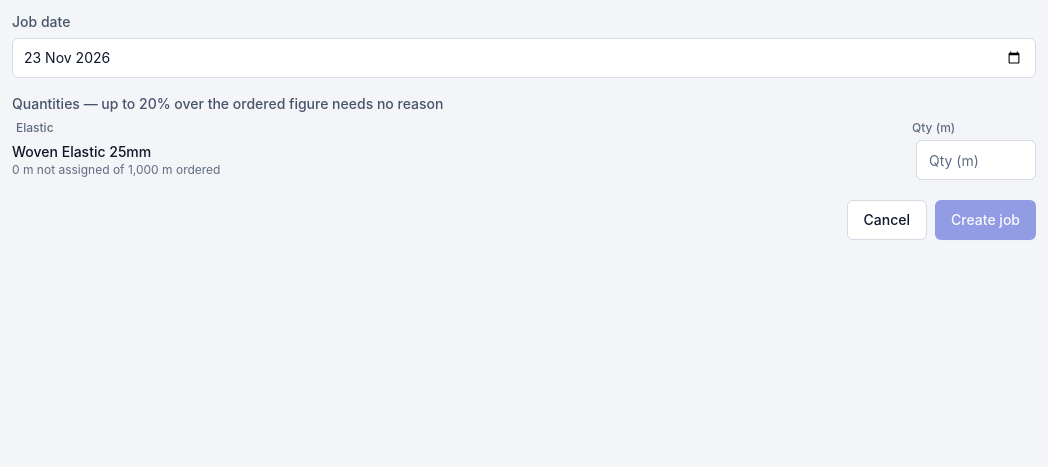
Test: a line other jobs have already planned › counts what earlier jobs already planned
The width and height of the screenshot is (1048, 467).
In the number field labelled "Qty (m)": point(976, 160) [916, 140, 1036, 180], type "150"
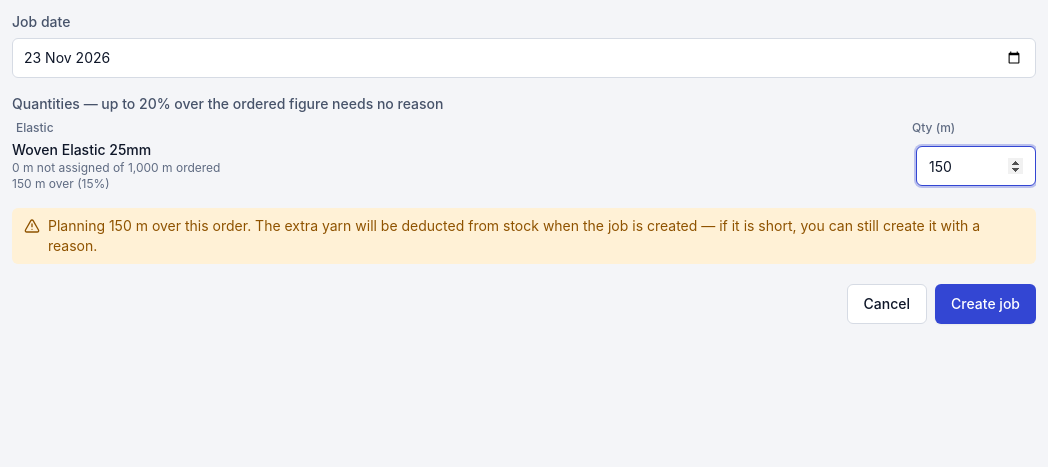
Expected: the text "150 m over (15%)" is shown, [12, 176, 110, 191]
Expected: the button "Create job" is enabled, [935, 284, 1036, 324]
Clear the number field named "Qty (m)": point(976, 166) [916, 146, 1036, 186]
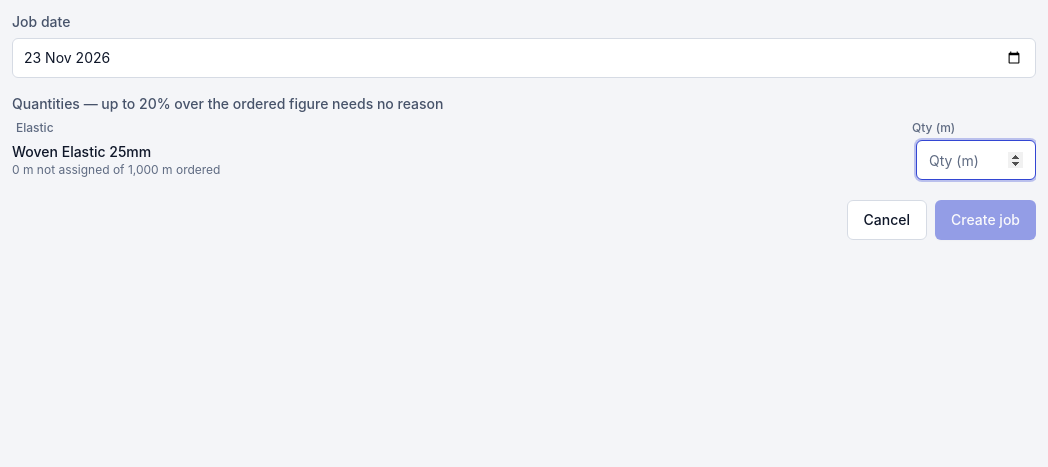
In the number field labelled "Qty (m)": point(976, 160) [916, 140, 1036, 180], type "250"
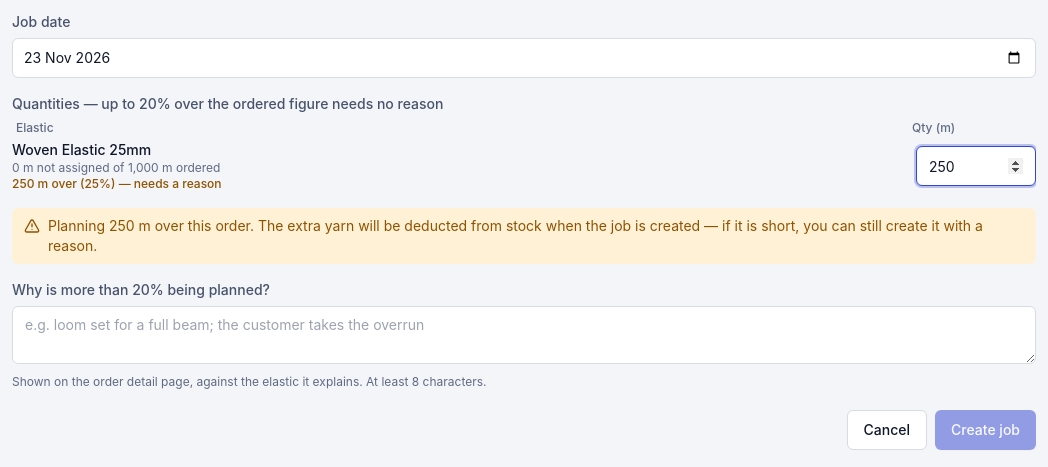
Expected: the text "250 m over (25%) — needs a reason" is shown, [12, 176, 222, 191]
